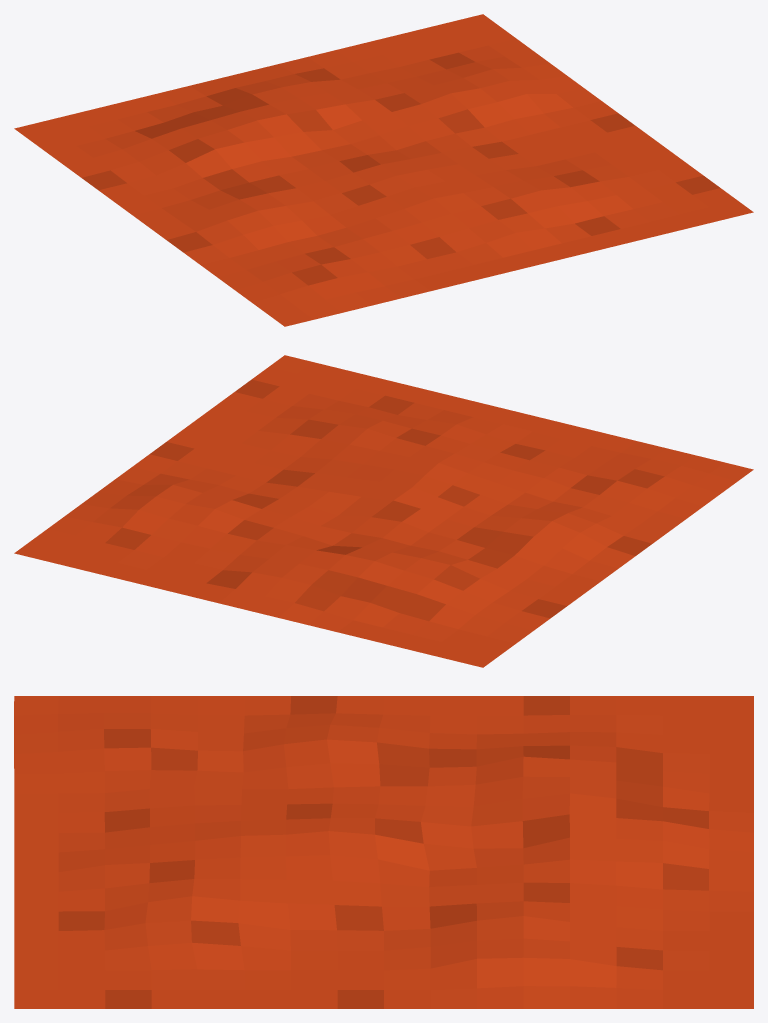
The model's file is Sand5.FBX.
3 renders of one model, top to bottom at view 1: azimuth 30°, elevation 25°; view 2: azimuth 150°, elevation 25°; view 3: azimuth 270°, elevation 25°, orthographic. The views are drawn at different scales.
Parts seen in each view (by area): view 1: Terrain.004; view 2: Terrain.004; view 3: Terrain.004.
Boxes of the visible parts, x1=… form: Terrain.004: x1=14, y1=14, x2=753, y2=326; Terrain.004: x1=14, y1=355, x2=753, y2=667; Terrain.004: x1=14, y1=696, x2=753, y2=1008.
Bounding box in the file's own units: 800 × 800 × 23.83.
